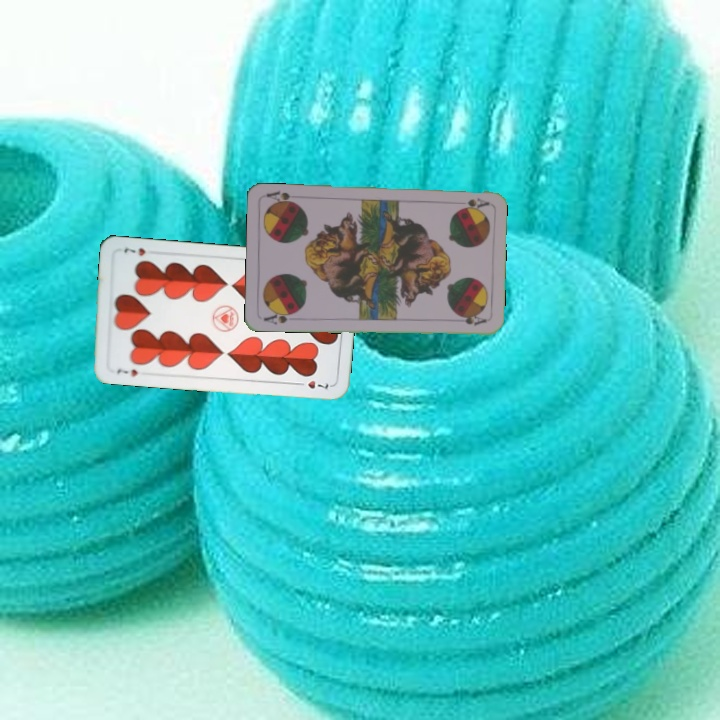H7: (113, 365, 140, 379)
SA: (260, 307, 300, 327), (458, 194, 491, 211)
